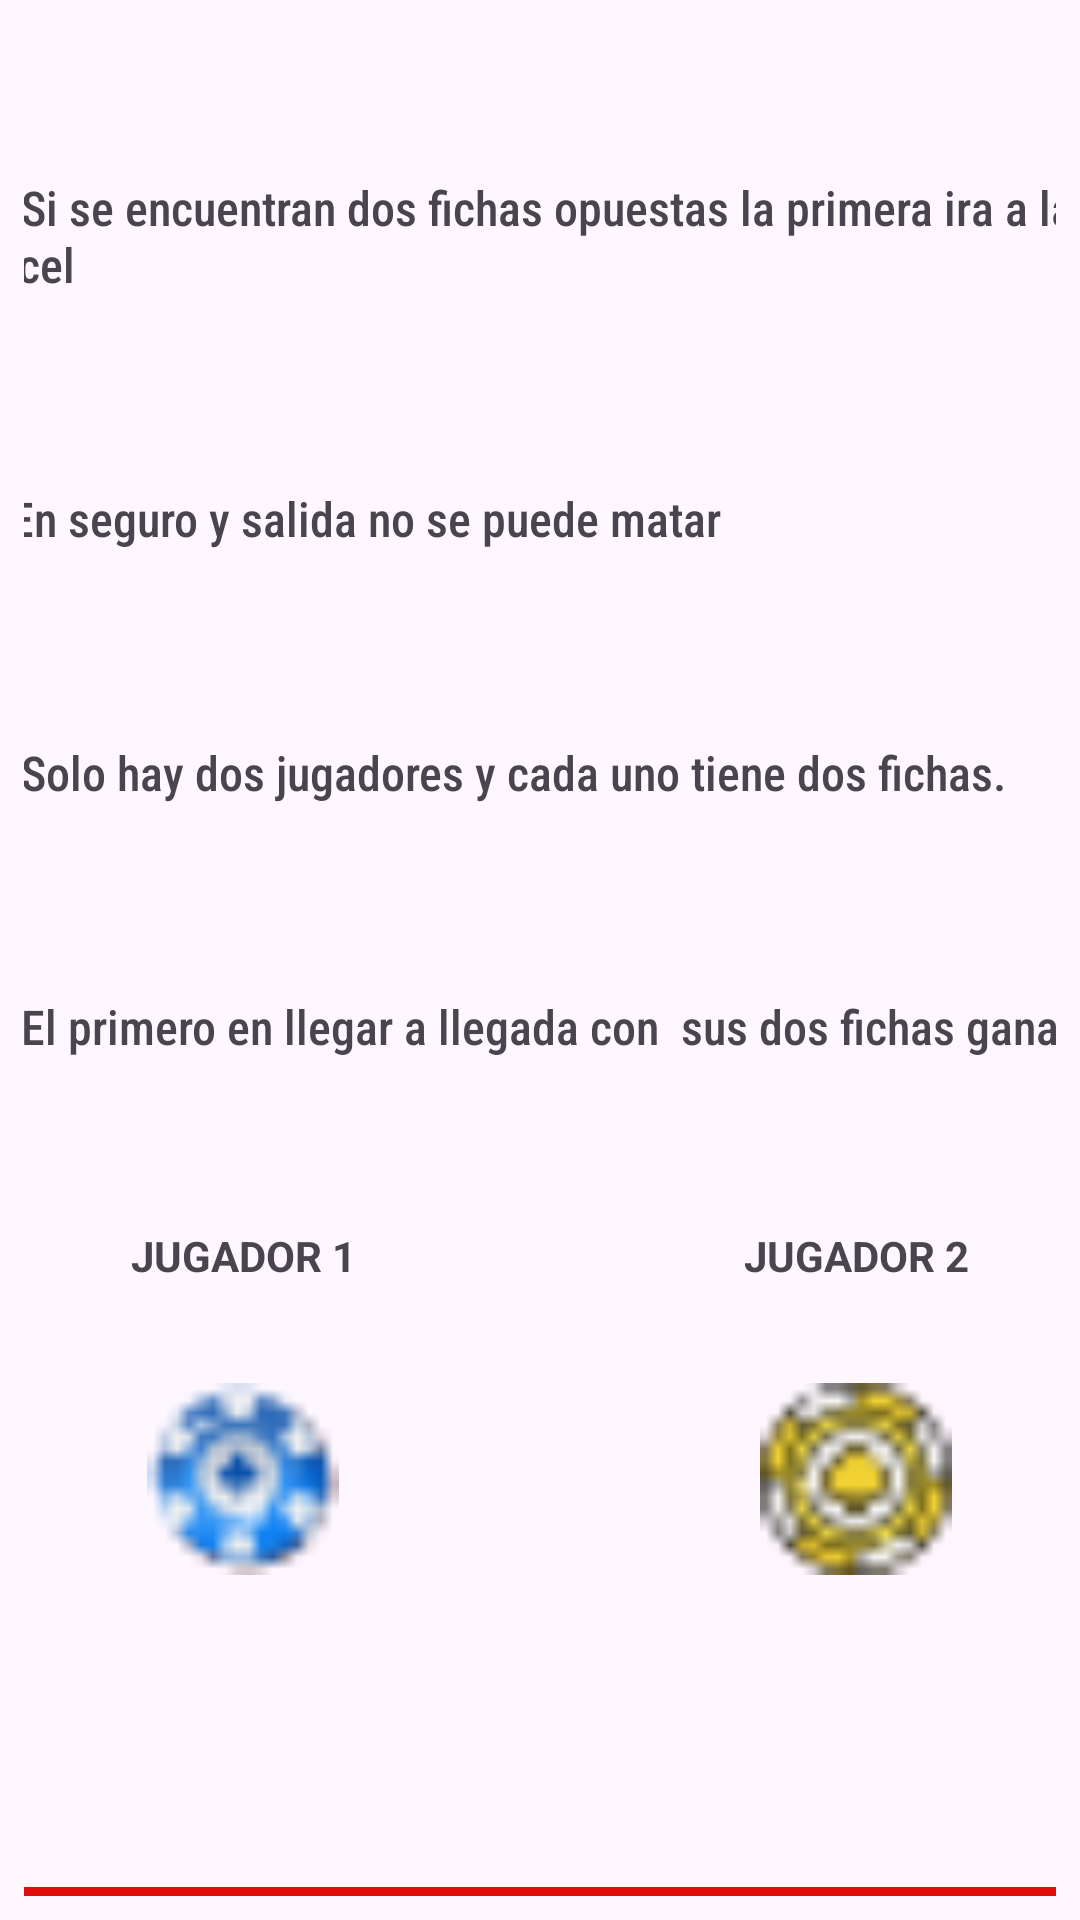

Locate icon controls on the screen. Image size 1080 x 1920, boxes as (x1, y1, x2, y2).
jugador uno: (147, 1383, 339, 1575)
